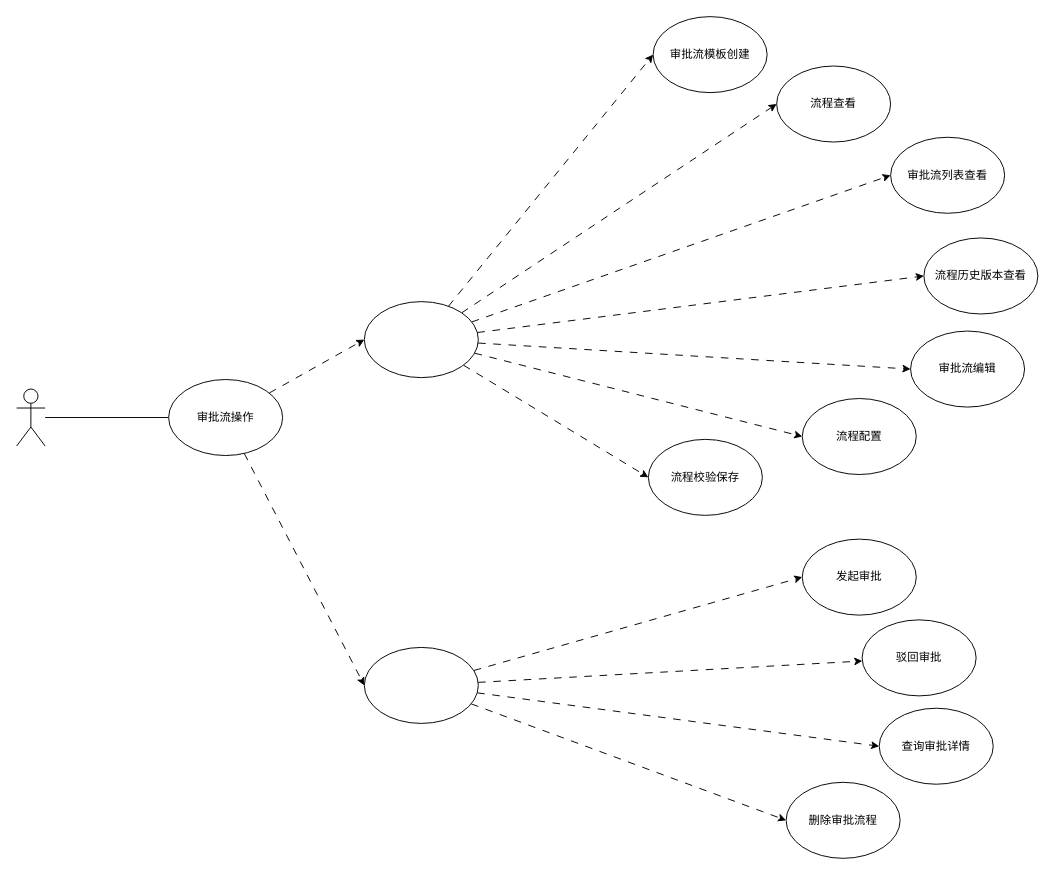
The diagram is 1055 pixels wide and 875 high, and some of its shapes have lost their labels. Each missing label, with the box of its shape:
Actor: (16, 388, 45, 446)
审批流审批: (363, 646, 478, 723)
审批流维护: (363, 301, 478, 378)
